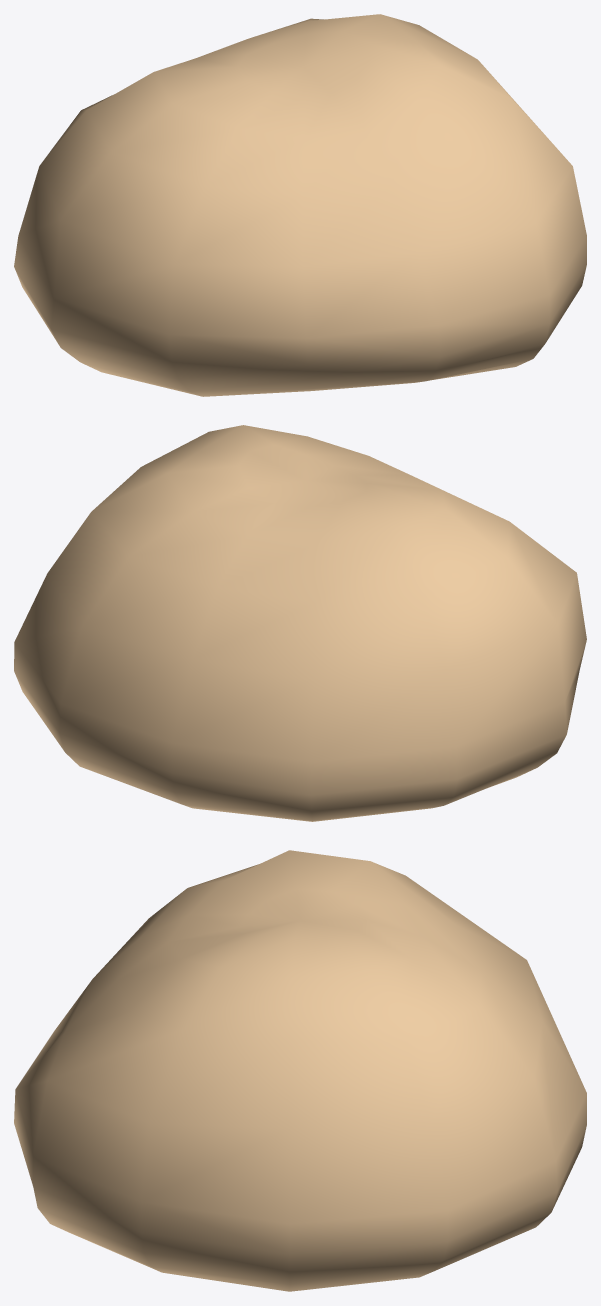
Rendered from masa de pizza.fbx.
3 renders of one model, top to bottom at view 1: azimuth 30°, elevation 25°; view 2: azimuth 150°, elevation 25°; view 3: azimuth 270°, elevation 25°, orthographic. The views are drawn at different scales.
Visible parts, largest first — view 1: Cylinder.030; view 2: Cylinder.030; view 3: Cylinder.030.
Part boxes in pixels (x1=…): Cylinder.030: x1=14, y1=14, x2=586, y2=396; Cylinder.030: x1=14, y1=425, x2=586, y2=821; Cylinder.030: x1=14, y1=850, x2=586, y2=1291.
Bounding box in the file's own units: 170 × 86.03 × 156.
